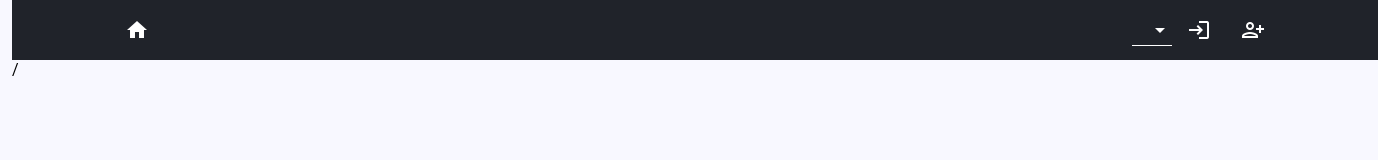
Test: BlogPostComponent › should navigate to the register page in the public content
Click the link with test id "register".
click(1253, 30)  # box [1241, 18, 1265, 42]
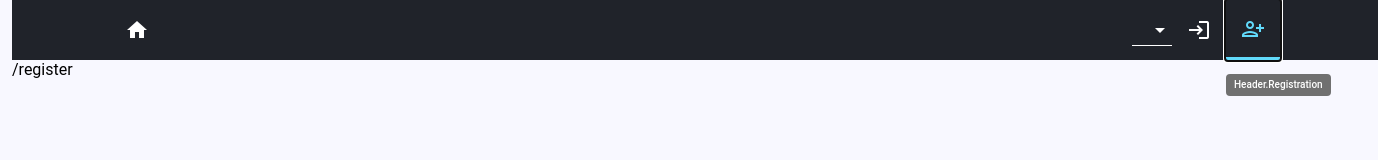
Check: the text with test id "location-display" reads "/register", box [12, 60, 73, 79]
